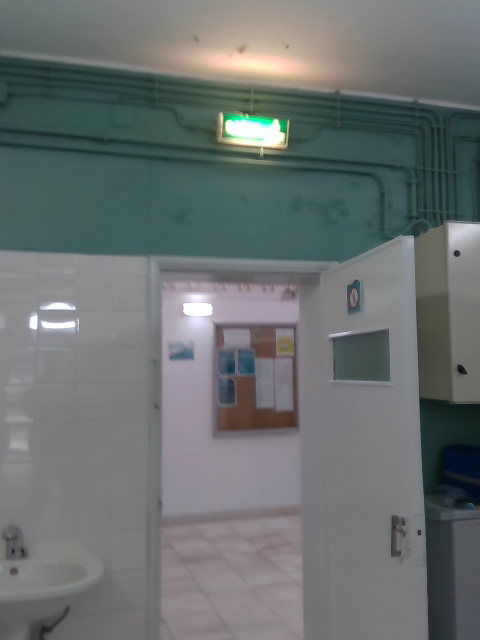open: (143, 241, 432, 639)
